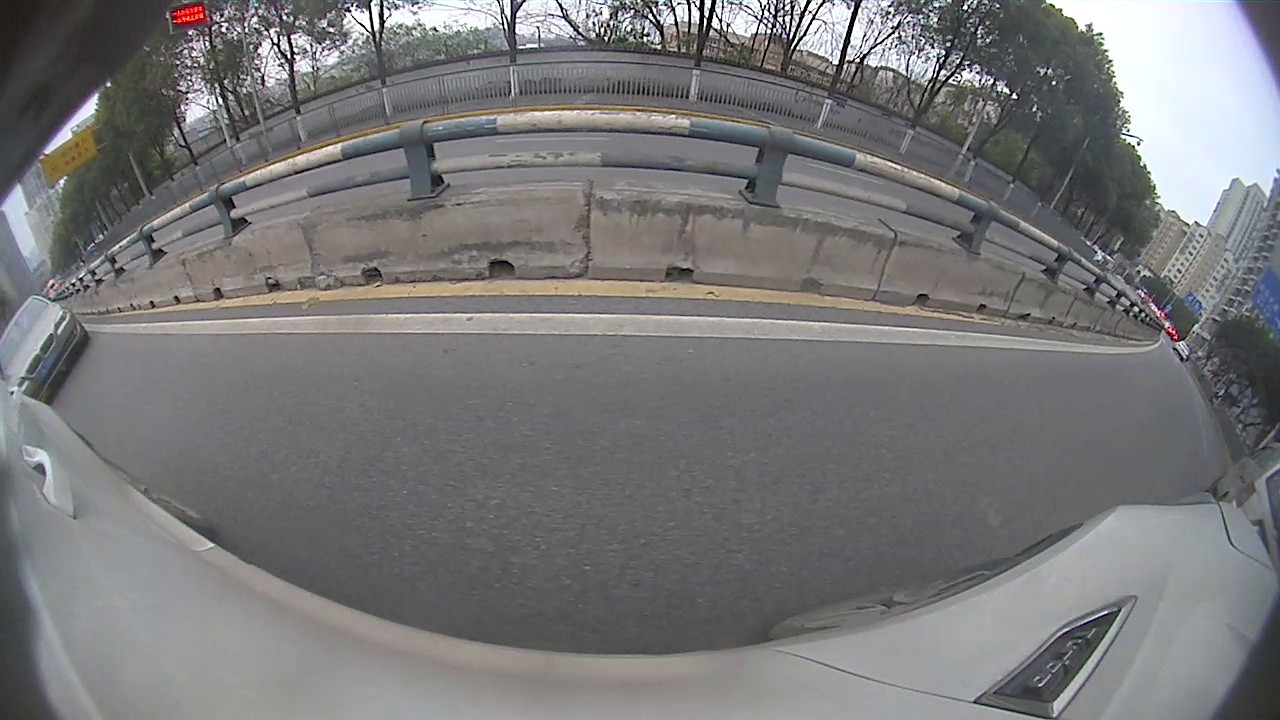car: (1, 290, 92, 409)
